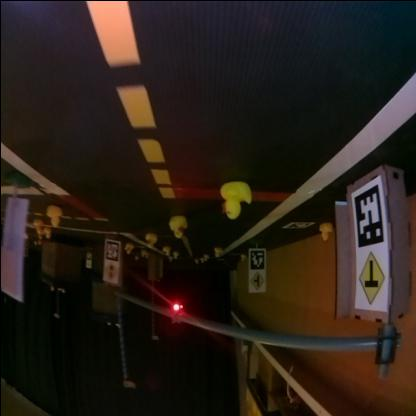Duckie: (219, 180, 250, 218), (167, 214, 186, 238), (45, 204, 60, 226), (317, 222, 332, 241), (143, 234, 155, 248), (32, 220, 41, 234), (42, 226, 51, 238), (124, 243, 132, 253), (161, 246, 169, 256), (212, 247, 220, 257), (172, 251, 178, 259), (240, 255, 245, 262)
Intersection sign: (356, 249, 382, 307), (249, 272, 263, 290)
QR code: (352, 182, 382, 248), (248, 249, 262, 270), (103, 240, 117, 260), (280, 222, 312, 230)
Traffic light: (169, 302, 183, 322)
